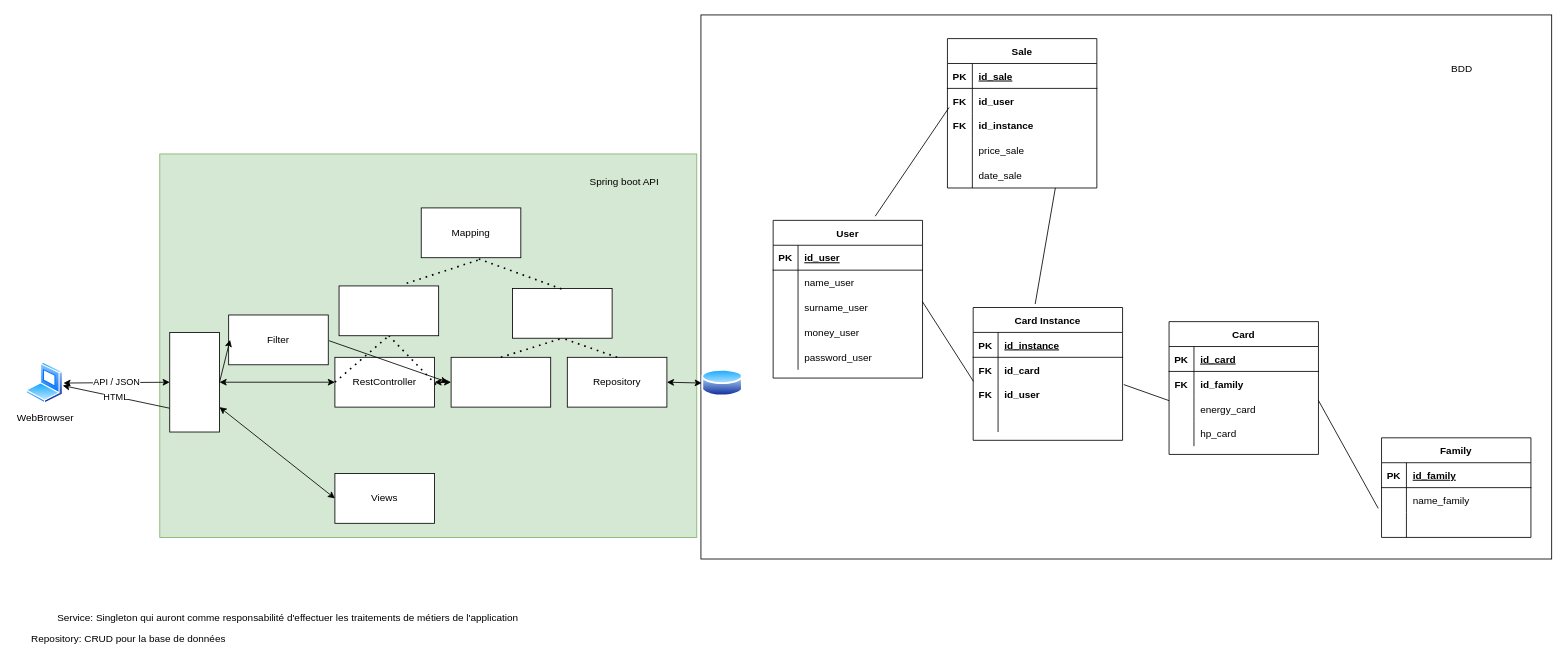
Image size: 1566x660. Some labels were removed from this diagram. Here are the shapes that lost their labels. From the top down, the centre of each, then its label:
At point 388,310: "DTO".
At point 562,313: "Model / Entity".
At point 194,382: "WebServer".
At point 500,381: "Service".
At point 722,382: "db".
